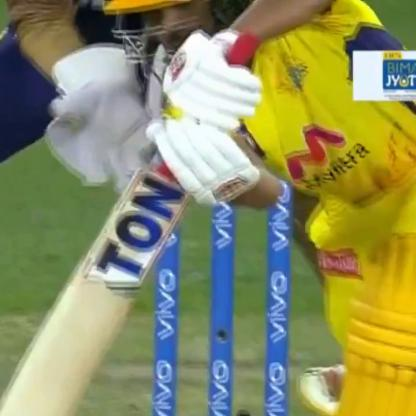bat: (12, 42, 254, 416)
